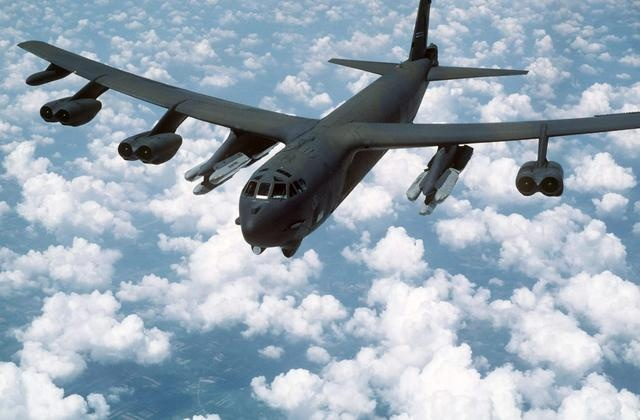airplane: (7, 2, 640, 260)
